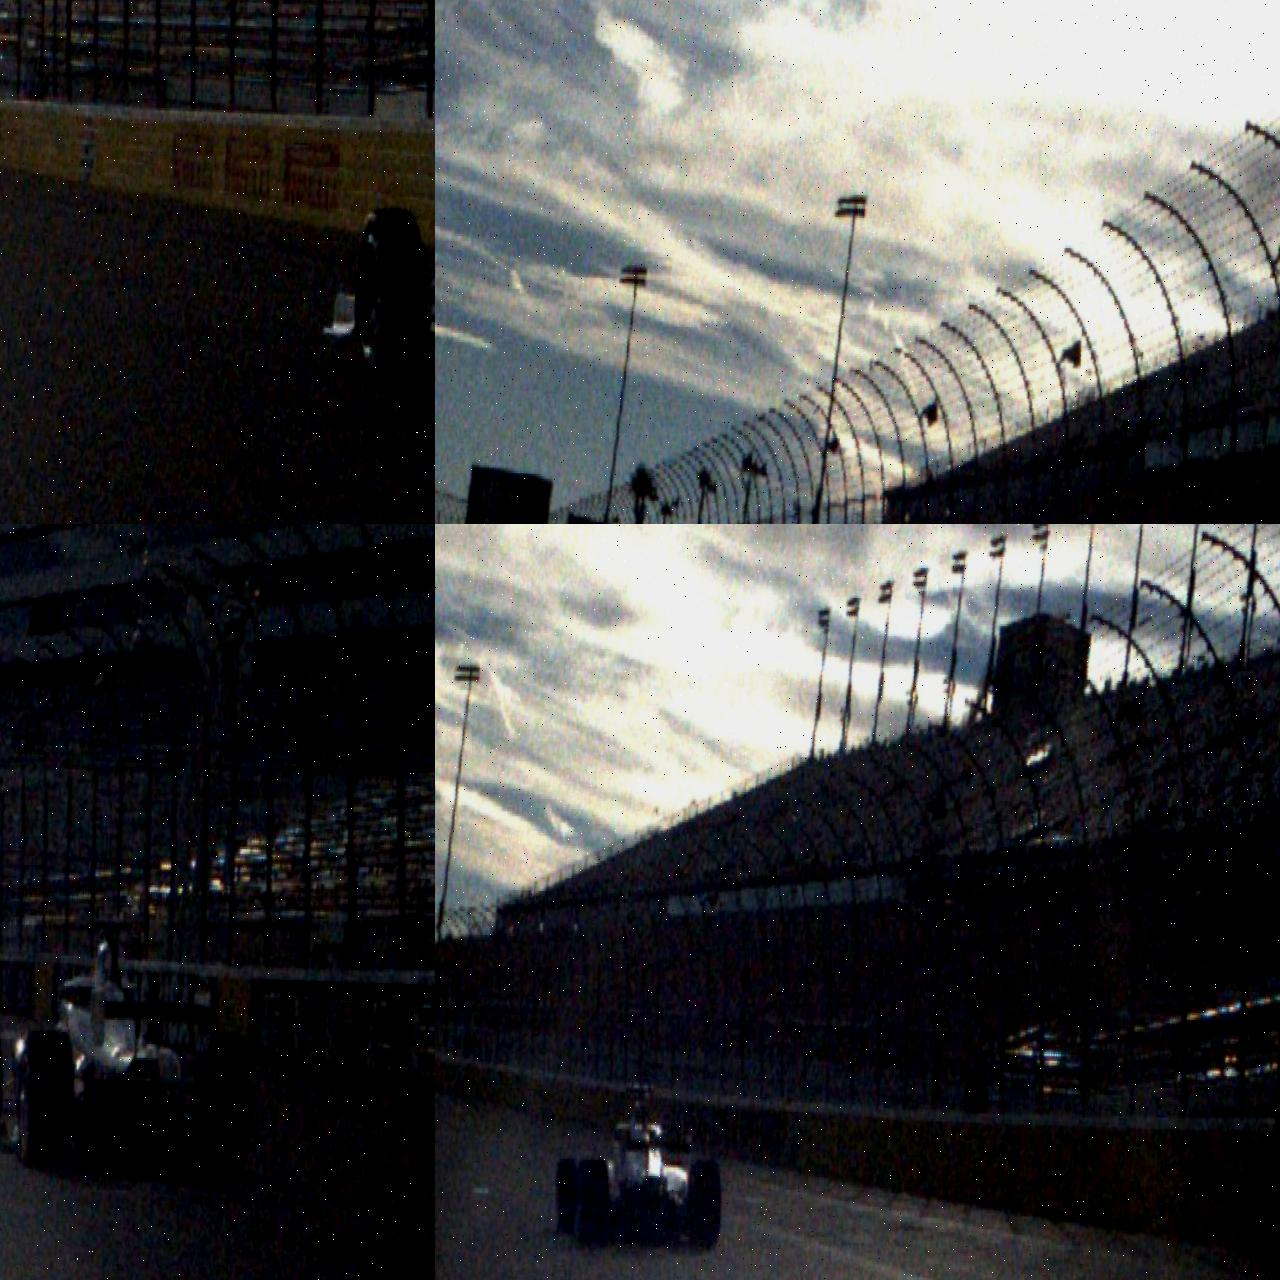AV: (0, 913, 255, 1168), (553, 1077, 726, 1253)
Wheel: (351, 206, 428, 384), (14, 1028, 73, 1162), (198, 1035, 250, 1167), (688, 1158, 724, 1252), (574, 1158, 609, 1249), (554, 1158, 580, 1236)
